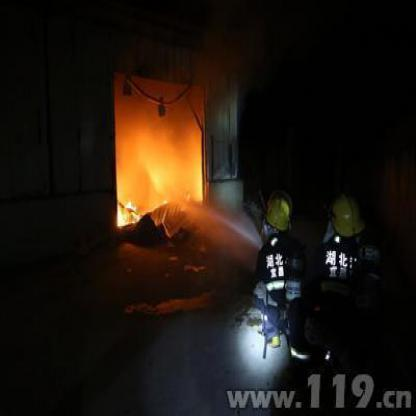fire: (116, 128, 204, 224)
